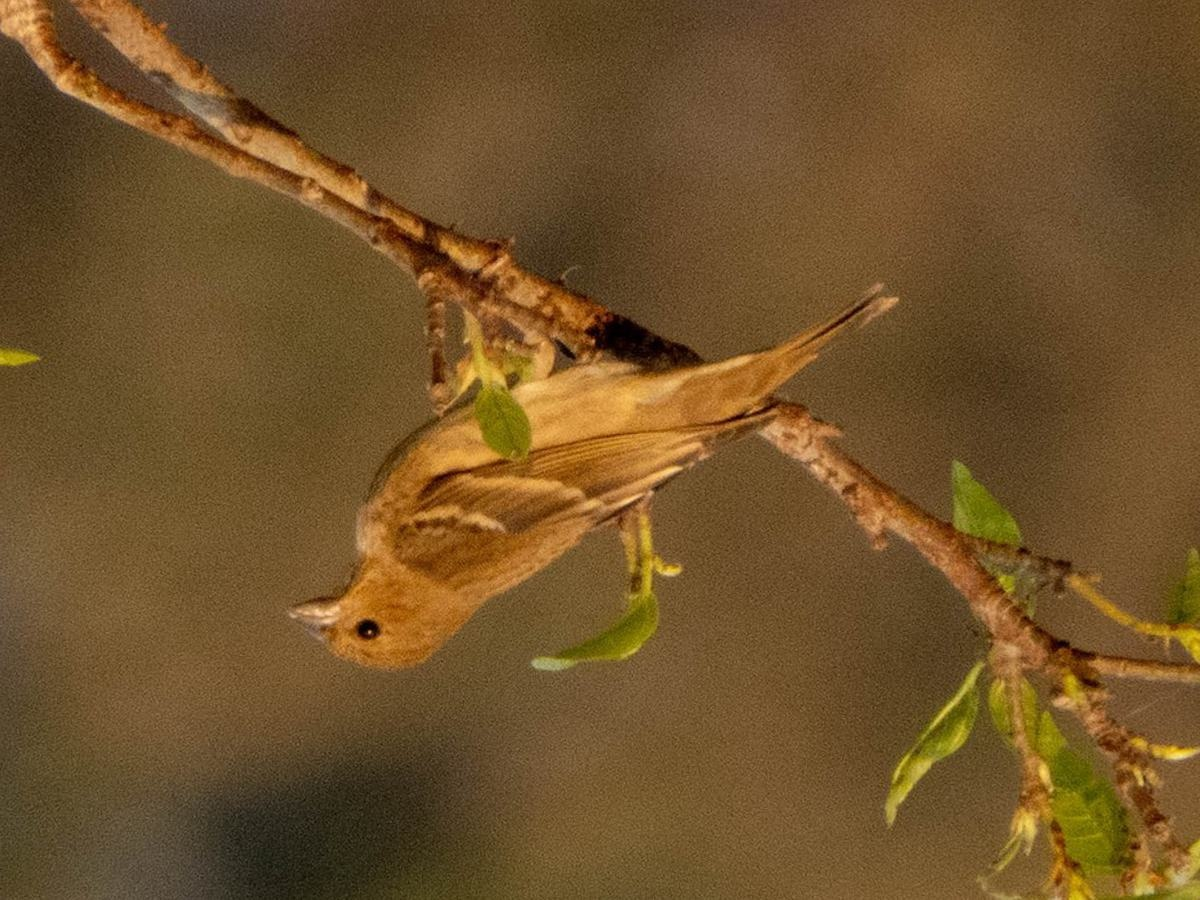rosefinch: (280, 275, 850, 682)
